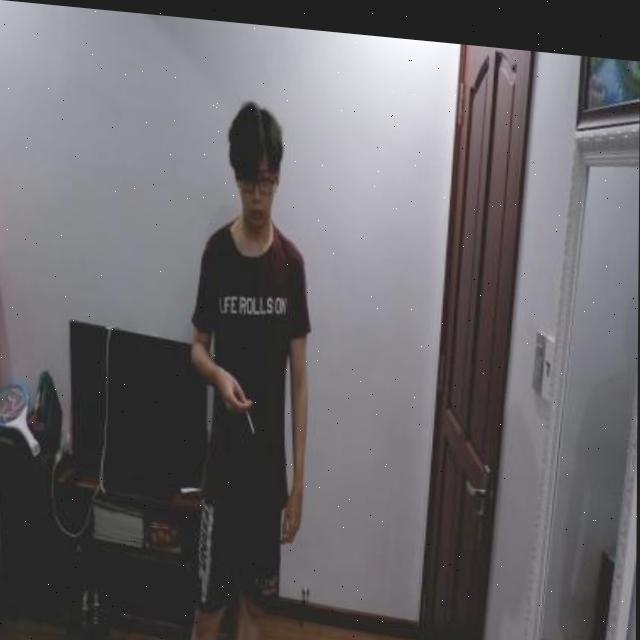cigarette: (247, 403, 257, 431)
